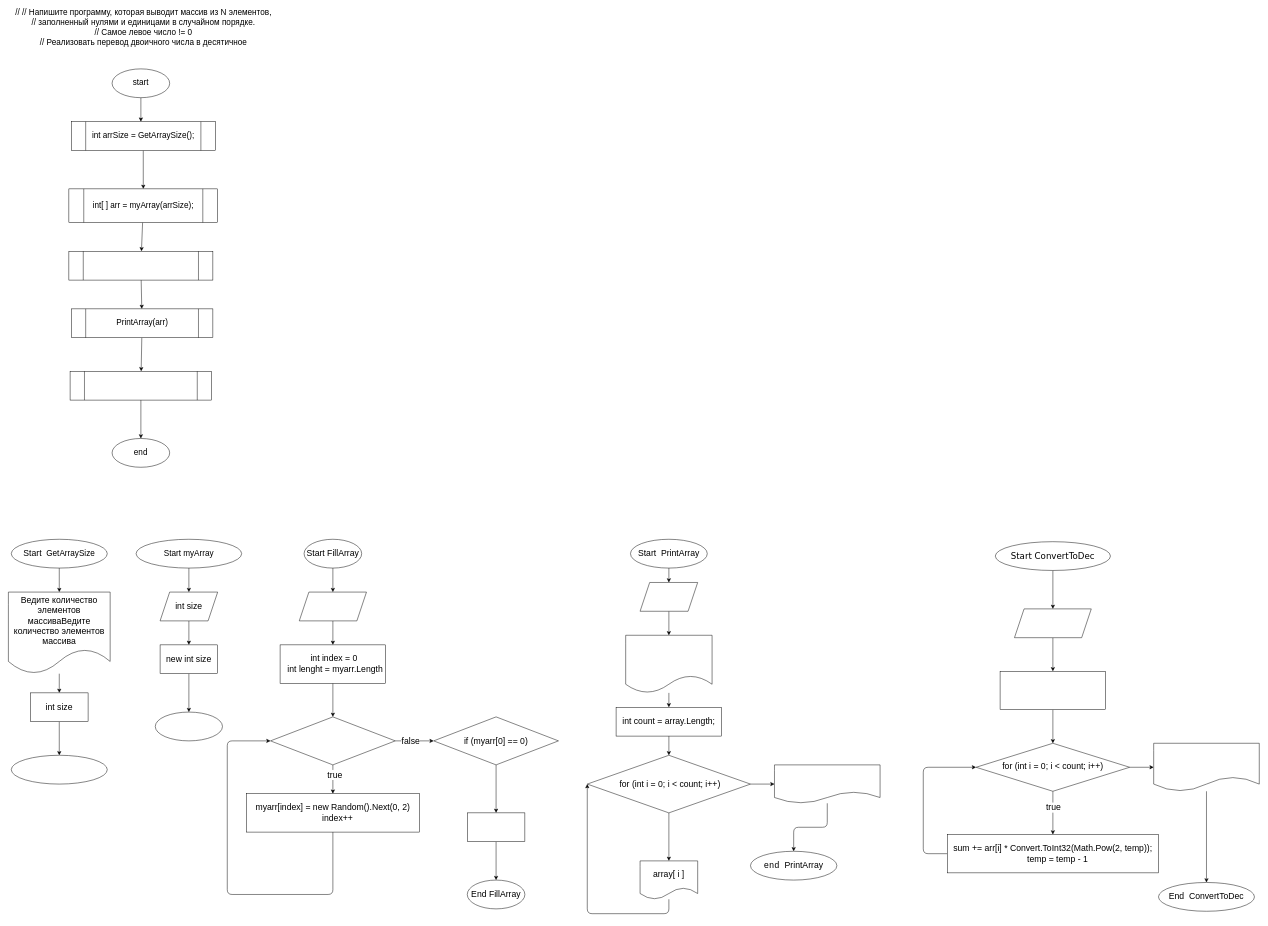
This 1268x926 diagram has some shape labels left out. The shapes that lost their labels are listed below. From the top down, each one's centre as x and y in pixels, then its label:
At (140,265): "FillArray(arr);".
At (141,385): "ConvertToDec(arr);".
At (332,606): "int[] myarr".
At (669,596): "int [ ] array".
At (1052,623): "int[] arr".
At (668,664): "Число в двоичном представлении:".
At (1053,690): "int count = arr.Length; int temp = count - 1; int sum = 0;".
At (188,726): "End myArray".
At (332,740): "while (index < lenght)".
At (59,769): "End GetArraySize".
At (827,783): "Console.WriteLine()".
At (1206,767): "Число в десятичном представлении: {sum}".
At (496,827): "myarr[0] = 1".
